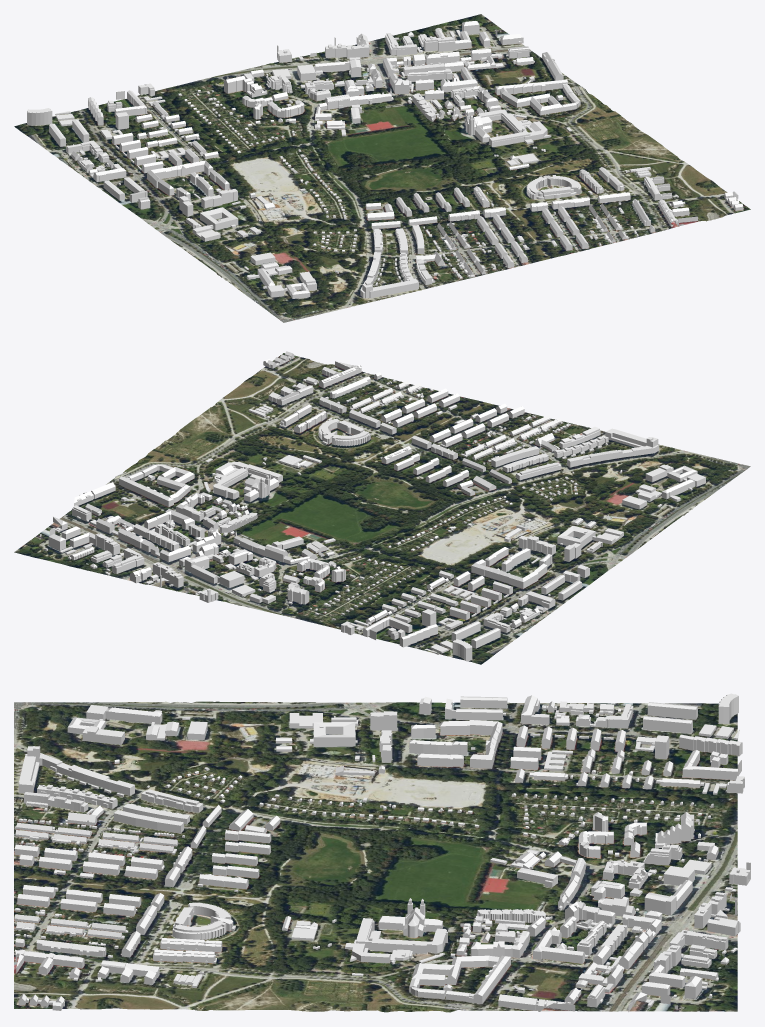
Rendered from asset.glb.
The picture shows the model from 3 angles, top to bottom: view 1: azimuth 30°, elevation 25°; view 2: azimuth 150°, elevation 25°; view 3: azimuth 270°, elevation 25°; orthographic projection. The views are drawn at different scales.
Parts seen in each view (by area): view 1: 2024_Muenchen_DDM_5m, 3D-Stadtmodell_neu; view 2: 2024_Muenchen_DDM_5m, 3D-Stadtmodell_neu; view 3: 2024_Muenchen_DDM_5m, 3D-Stadtmodell_neu.
Part boxes in pixels (<box>): 2024_Muenchen_DDM_5m: <box>14,14,750,322</box>; 3D-Stadtmodell_neu: <box>27,21,743,298</box>; 2024_Muenchen_DDM_5m: <box>14,353,750,664</box>; 3D-Stadtmodell_neu: <box>40,351,705,661</box>; 2024_Muenchen_DDM_5m: <box>14,701,737,1012</box>; 3D-Stadtmodell_neu: <box>14,693,750,1012</box>.
Bounding box in the file's own units: 1001 × 44.98 × 1014.
Materials: 2 (1 with a texture image).
